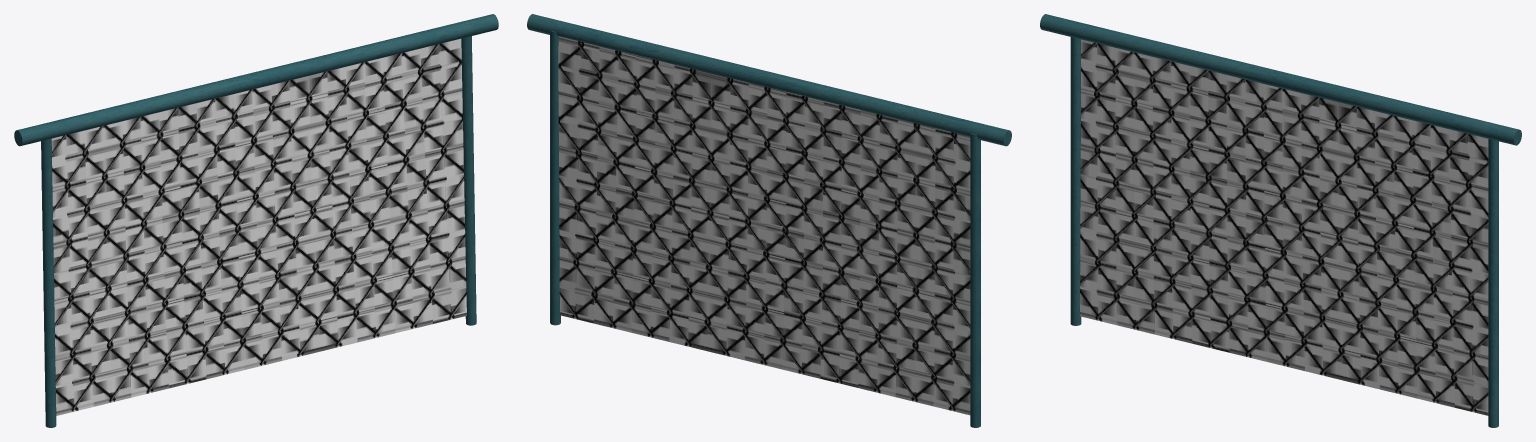
File: langan01_a.fbx
The picture shows the model from 3 angles, left to right: view 1: azimuth 30°, elevation 25°; view 2: azimuth 150°, elevation 25°; view 3: azimuth 330°, elevation 25°; orthographic projection.
Parts seen in each view (by area): view 1: langan01; view 2: langan01; view 3: langan01.
Boxes of the visible parts, left/top/right/bottom form: langan01: left=14, top=14, right=498, bottom=427; langan01: left=527, top=14, right=1011, bottom=427; langan01: left=1040, top=14, right=1521, bottom=427.
Bounding box in the file's own units: 402 × 244 × 13.03.
